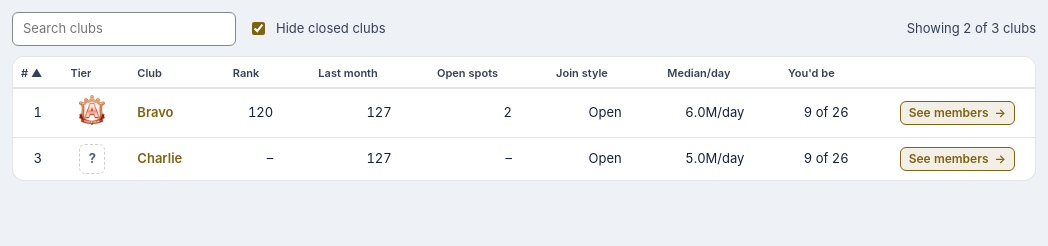
Test case: ResultsTable › hides closed clubs only when they were included
The width and height of the screenshot is (1048, 246).
Click the checkbox labelled "Hide closed clubs" at (258, 29), box [252,22,265,35]
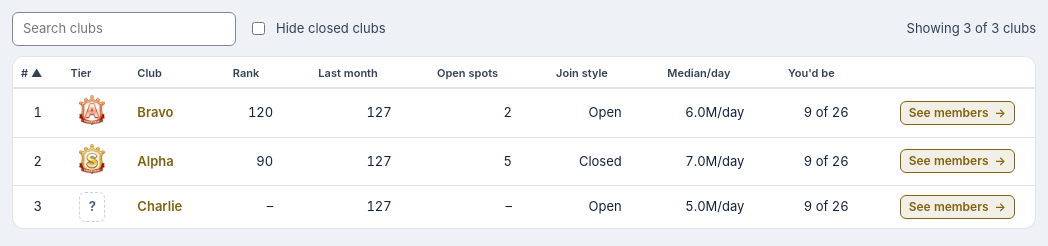
Result: the link "Alpha" is shown at [137,152,174,168]
